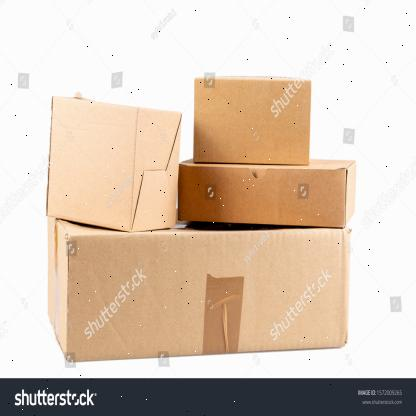box: (66, 227, 348, 360), (46, 96, 140, 230), (177, 165, 348, 228), (193, 79, 313, 165)
